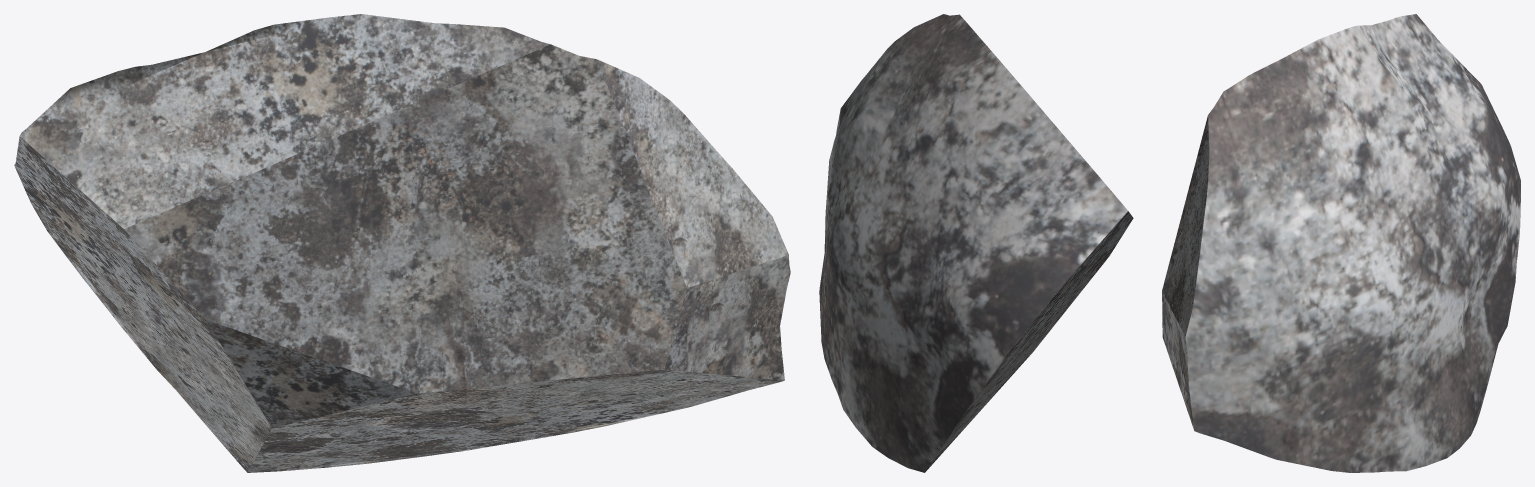
The model's file is Asteroid_Large_001_02_006.fbx.
3 views of the same model, side by side, from view 1: azimuth 30°, elevation 25°; view 2: azimuth 150°, elevation 25°; view 3: azimuth 270°, elevation 25° (orthographic). The views are drawn at different scales.
Parts seen in each view (by area): view 1: Asteroid_Large_001_02_006; view 2: Asteroid_Large_001_02_006; view 3: Asteroid_Large_001_02_006.
Boxes of the visible parts, bbox=[...] form: Asteroid_Large_001_02_006: bbox=[14, 14, 790, 472]; Asteroid_Large_001_02_006: bbox=[819, 14, 1133, 472]; Asteroid_Large_001_02_006: bbox=[1162, 14, 1520, 472].
Bounding box in the file's own units: 26.8 × 22.93 × 19.31.
